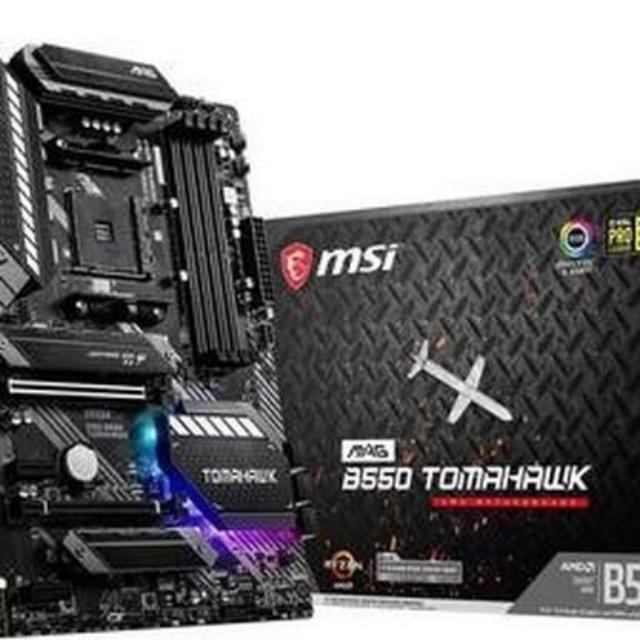Mainboard: (0, 49, 325, 640)
